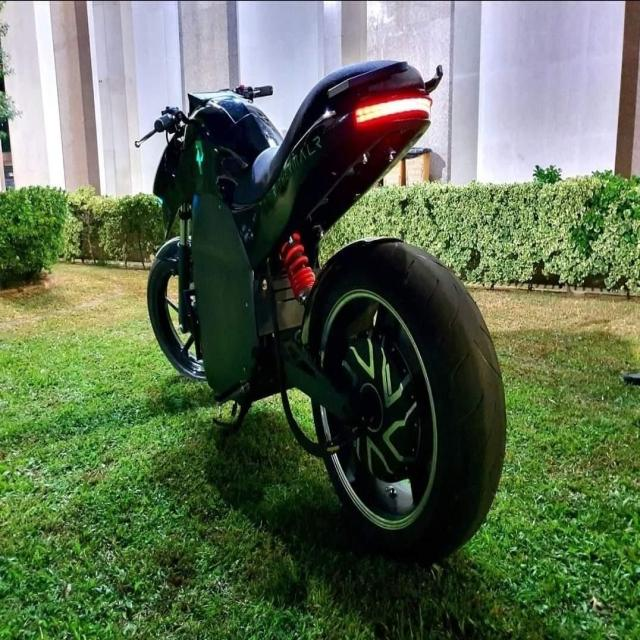motorcycle: (130, 49, 509, 562)
